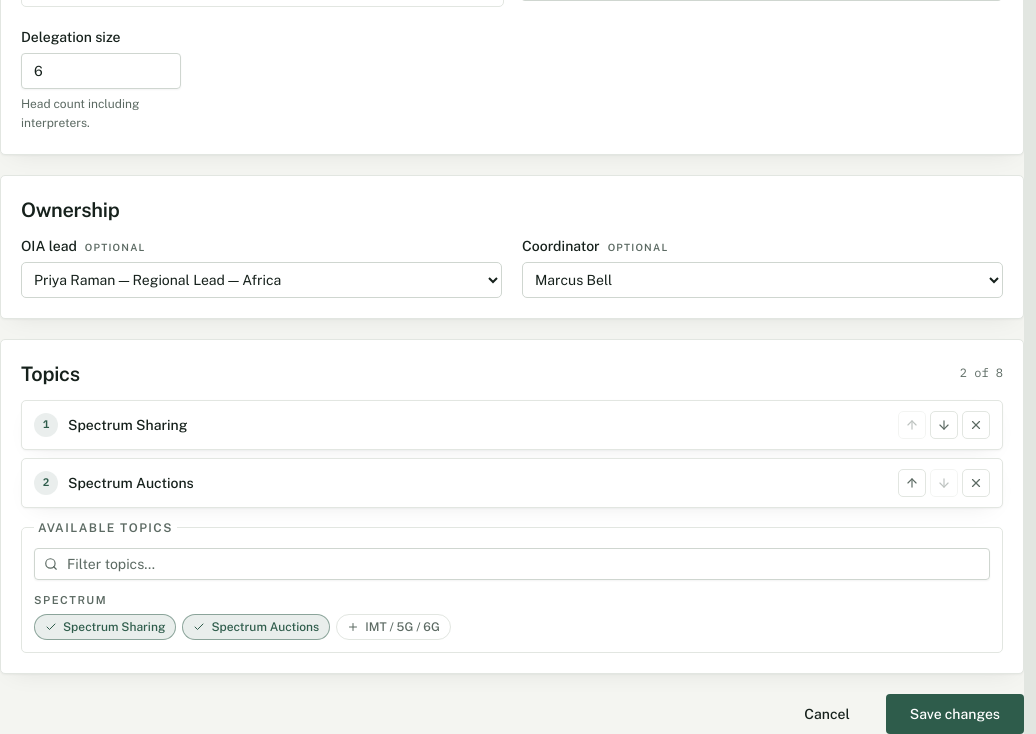
EditMeetingForm › shows the alert when the action refuses to save
(page scrolled)
Click the button "Save changes".
click(955, 714)  # box [886,694,1024,733]
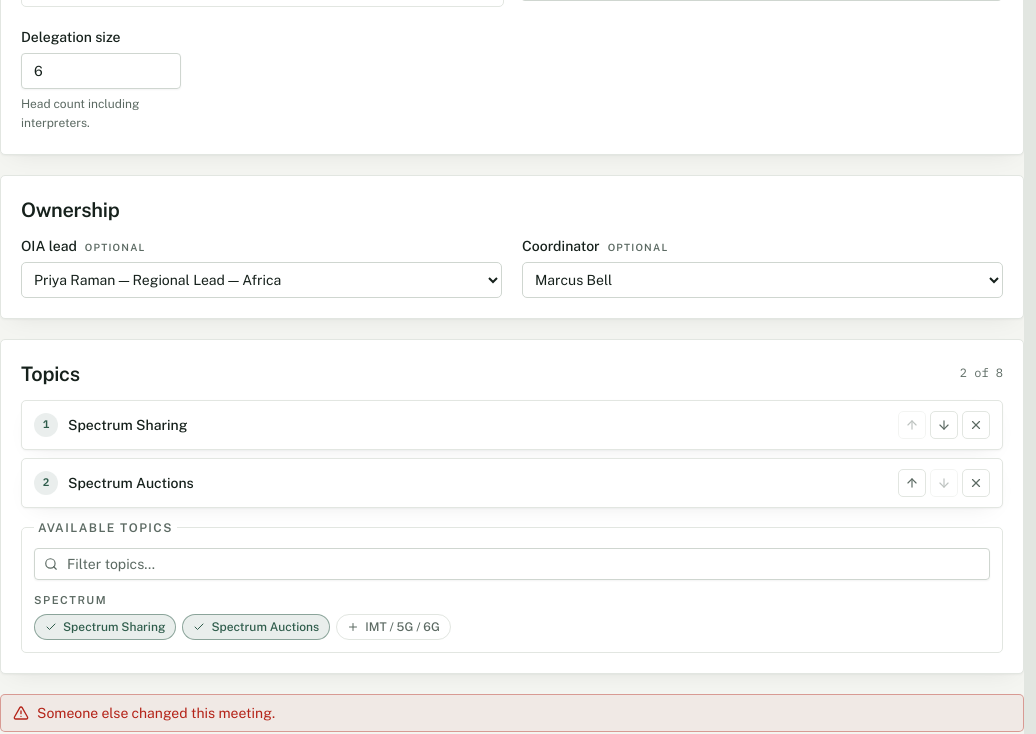
Expected: the message reads "Someone else changed this meeting.", [37,705,275,721]
